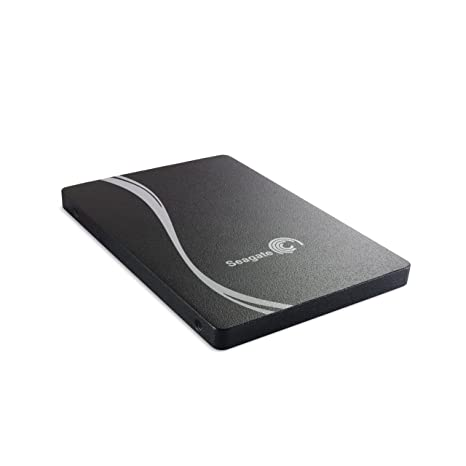seagate-hdd-240gb: (52, 150, 408, 348)
